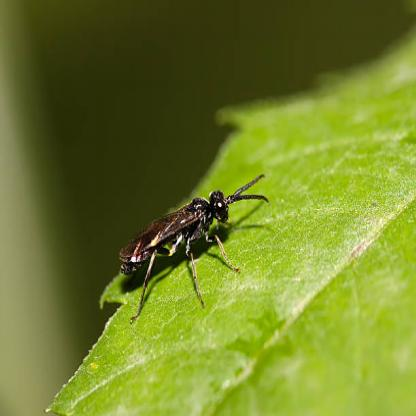sawfly: (115, 170, 272, 325)
